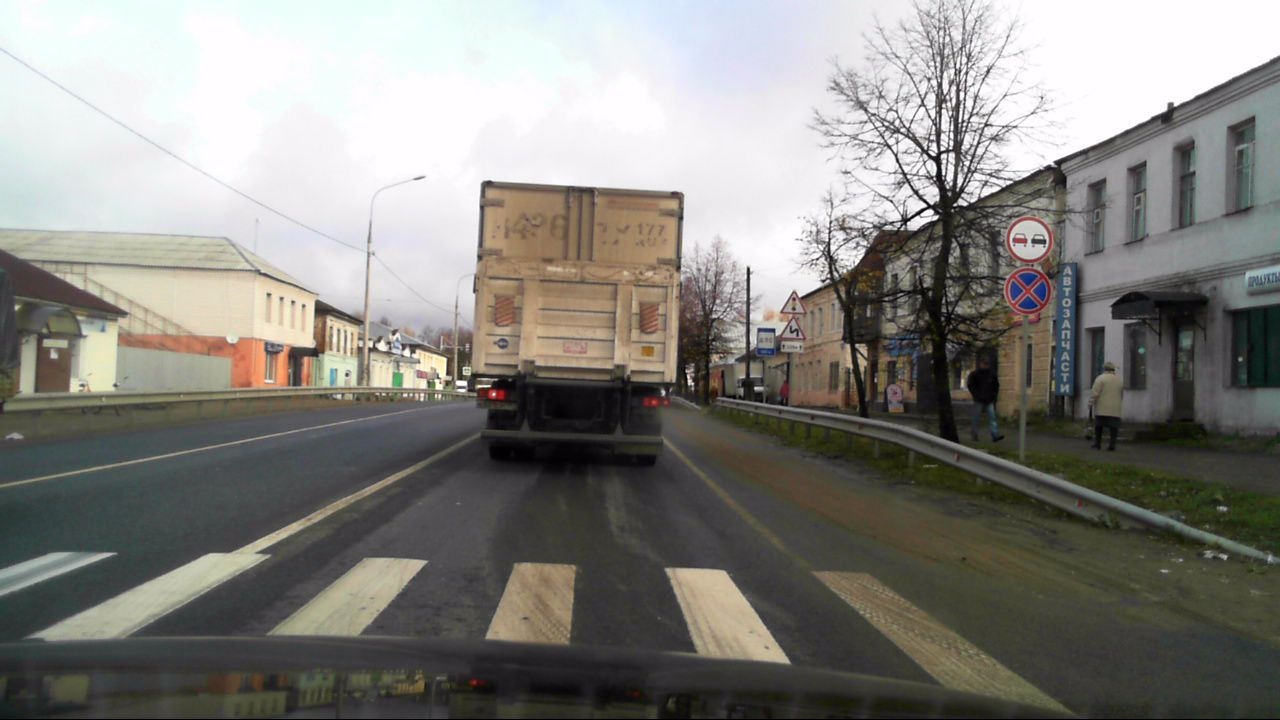No Parking: (1004, 266, 1050, 314)
